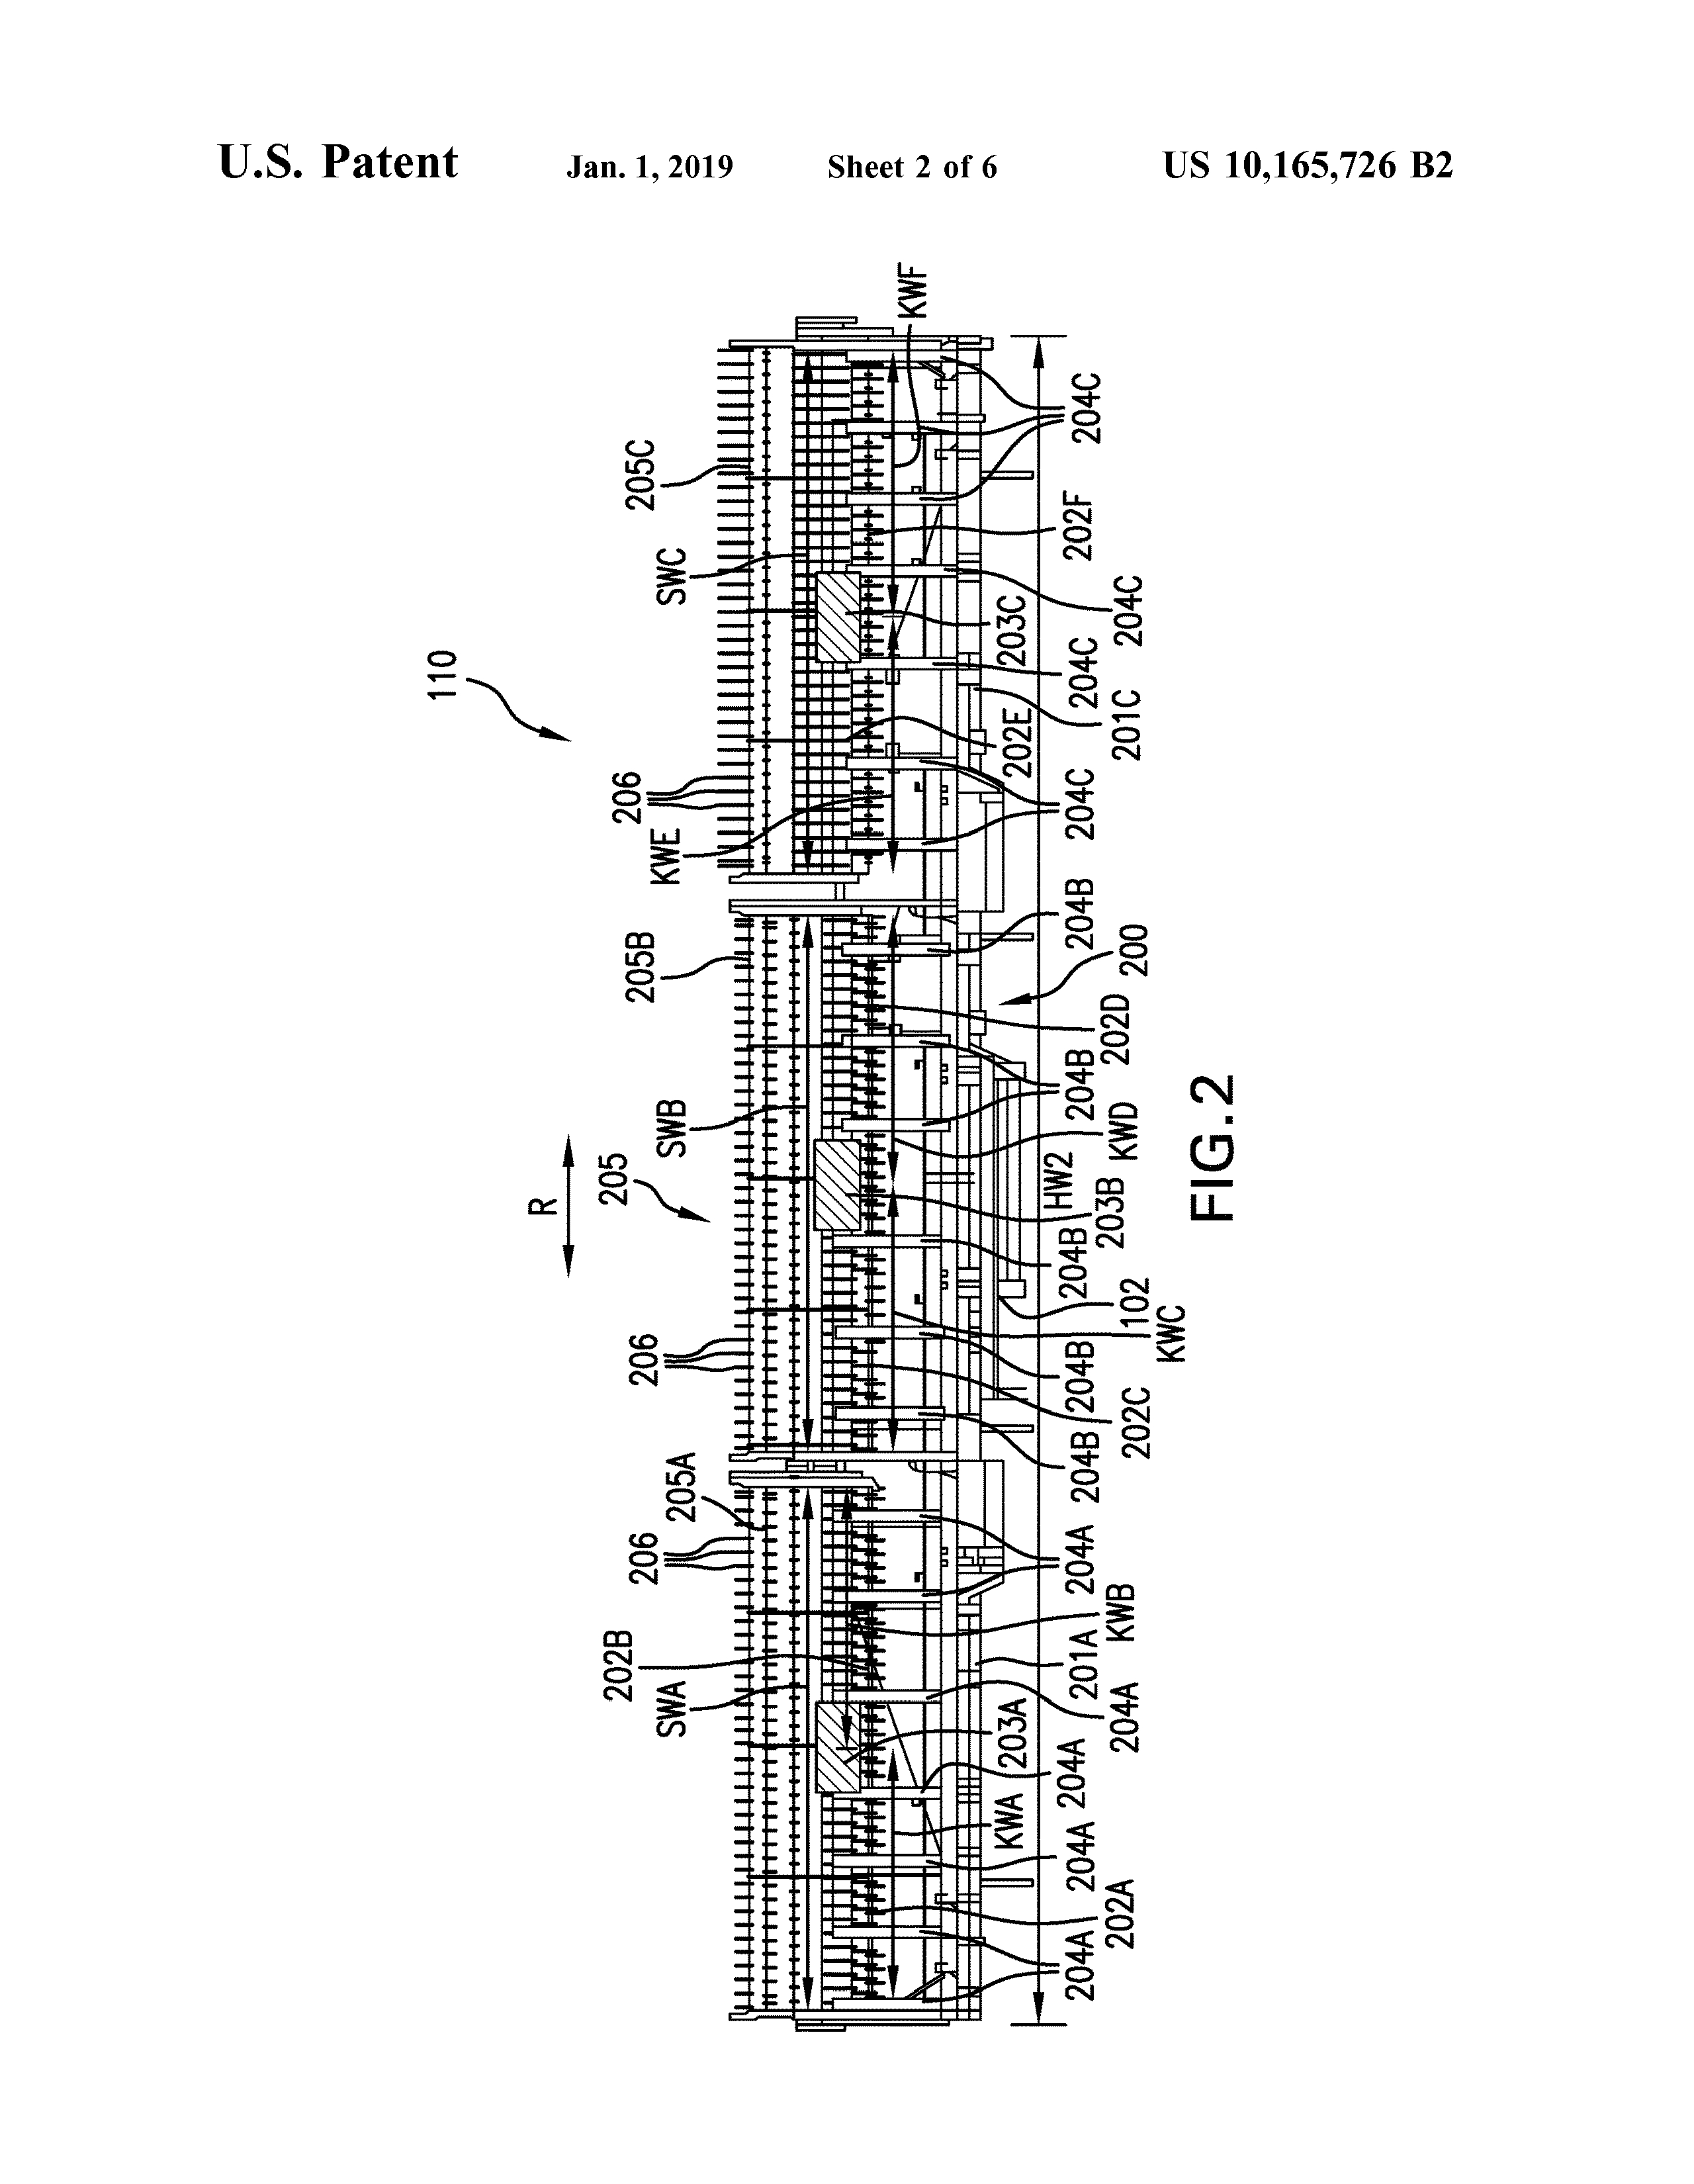patent image: (408, 239, 1291, 2077)
